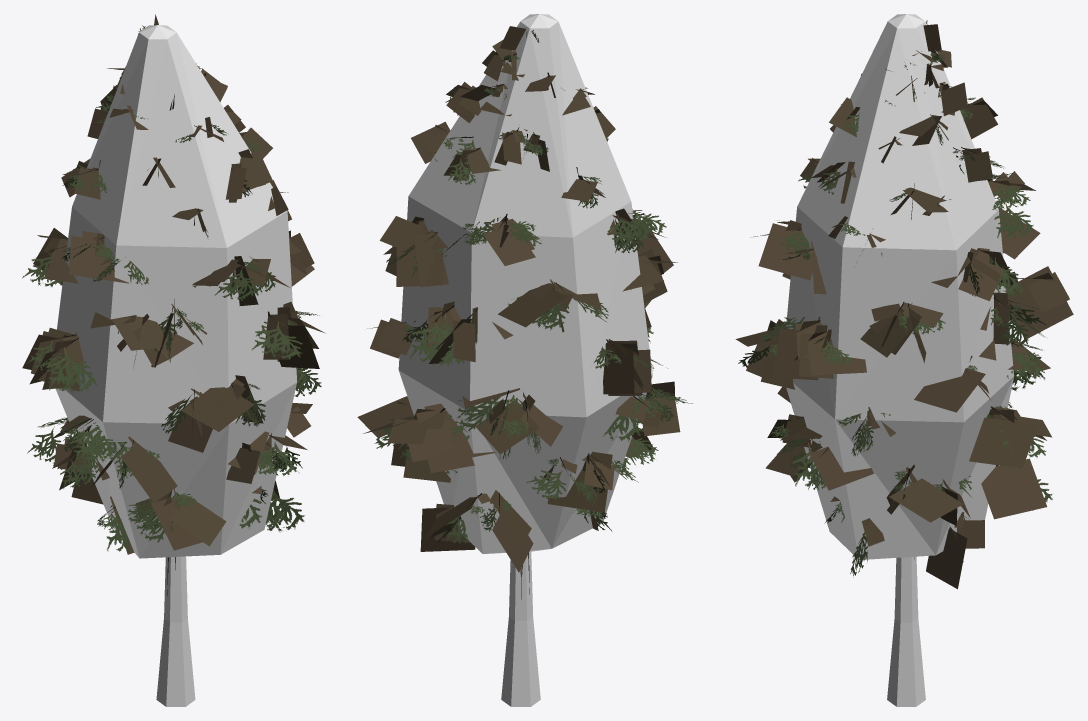
File: Fir_Tree_1.dae
The picture shows the model from 3 angles, left to right: view 1: azimuth 30°, elevation 25°; view 2: azimuth 150°, elevation 25°; view 3: azimuth 270°, elevation 25°; orthographic projection.
Visible parts, largest first — view 1: Colmesh-1, tree_a80, tree_a400, tree_a150; view 2: Colmesh-1, tree_a80, tree_a400, tree_a150; view 3: Colmesh-1, tree_a80, tree_a400, tree_a150.
Boxes of the visible parts, bbox=[...] form: Colmesh-1: bbox=[55, 25, 297, 706]; tree_a80: bbox=[22, 25, 321, 553]; tree_a400: bbox=[33, 63, 318, 595]; tree_a150: bbox=[35, 14, 325, 530]; Colmesh-1: bbox=[398, 14, 652, 706]; tree_a80: bbox=[363, 30, 692, 573]; tree_a400: bbox=[357, 39, 673, 599]; tree_a150: bbox=[419, 26, 667, 572]; Colmesh-1: bbox=[786, 14, 1014, 706]; tree_a80: bbox=[735, 20, 1047, 562]; tree_a400: bbox=[760, 50, 1073, 577]; tree_a150: bbox=[758, 24, 1069, 589].
Bounding box in the file's own units: 17.55 × 17.56 × 38.42.
Materials: 3 (2 with a texture image).
